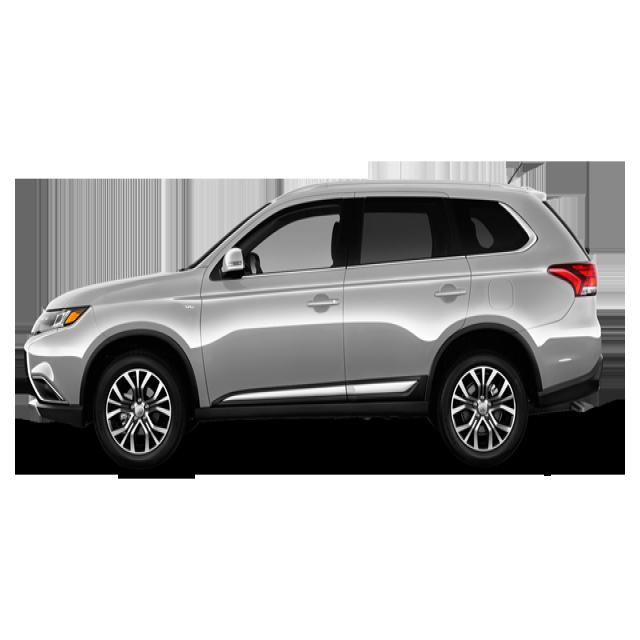light_vehicle: (23, 180, 605, 471)
